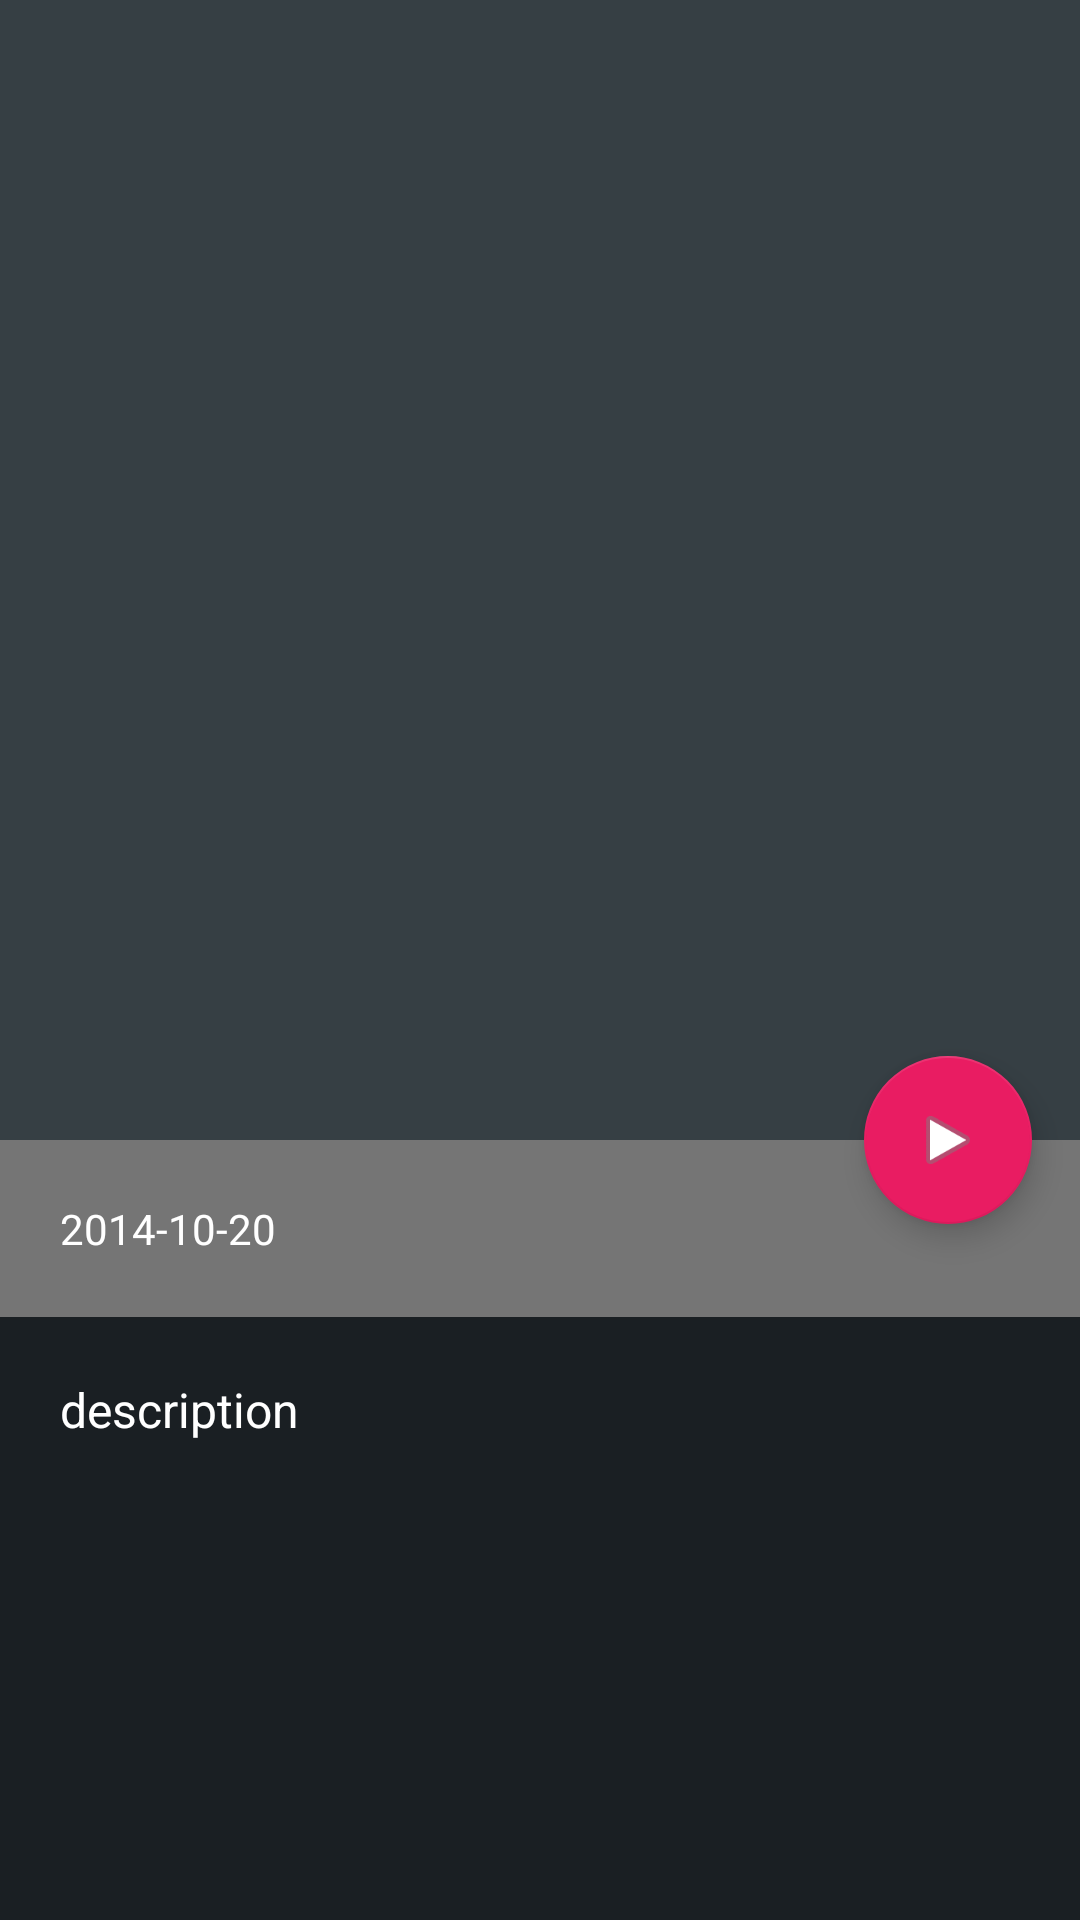

Point at icon controls on the screen. Image size 1080x1920, points as (x,y).
play: (948,1140)
